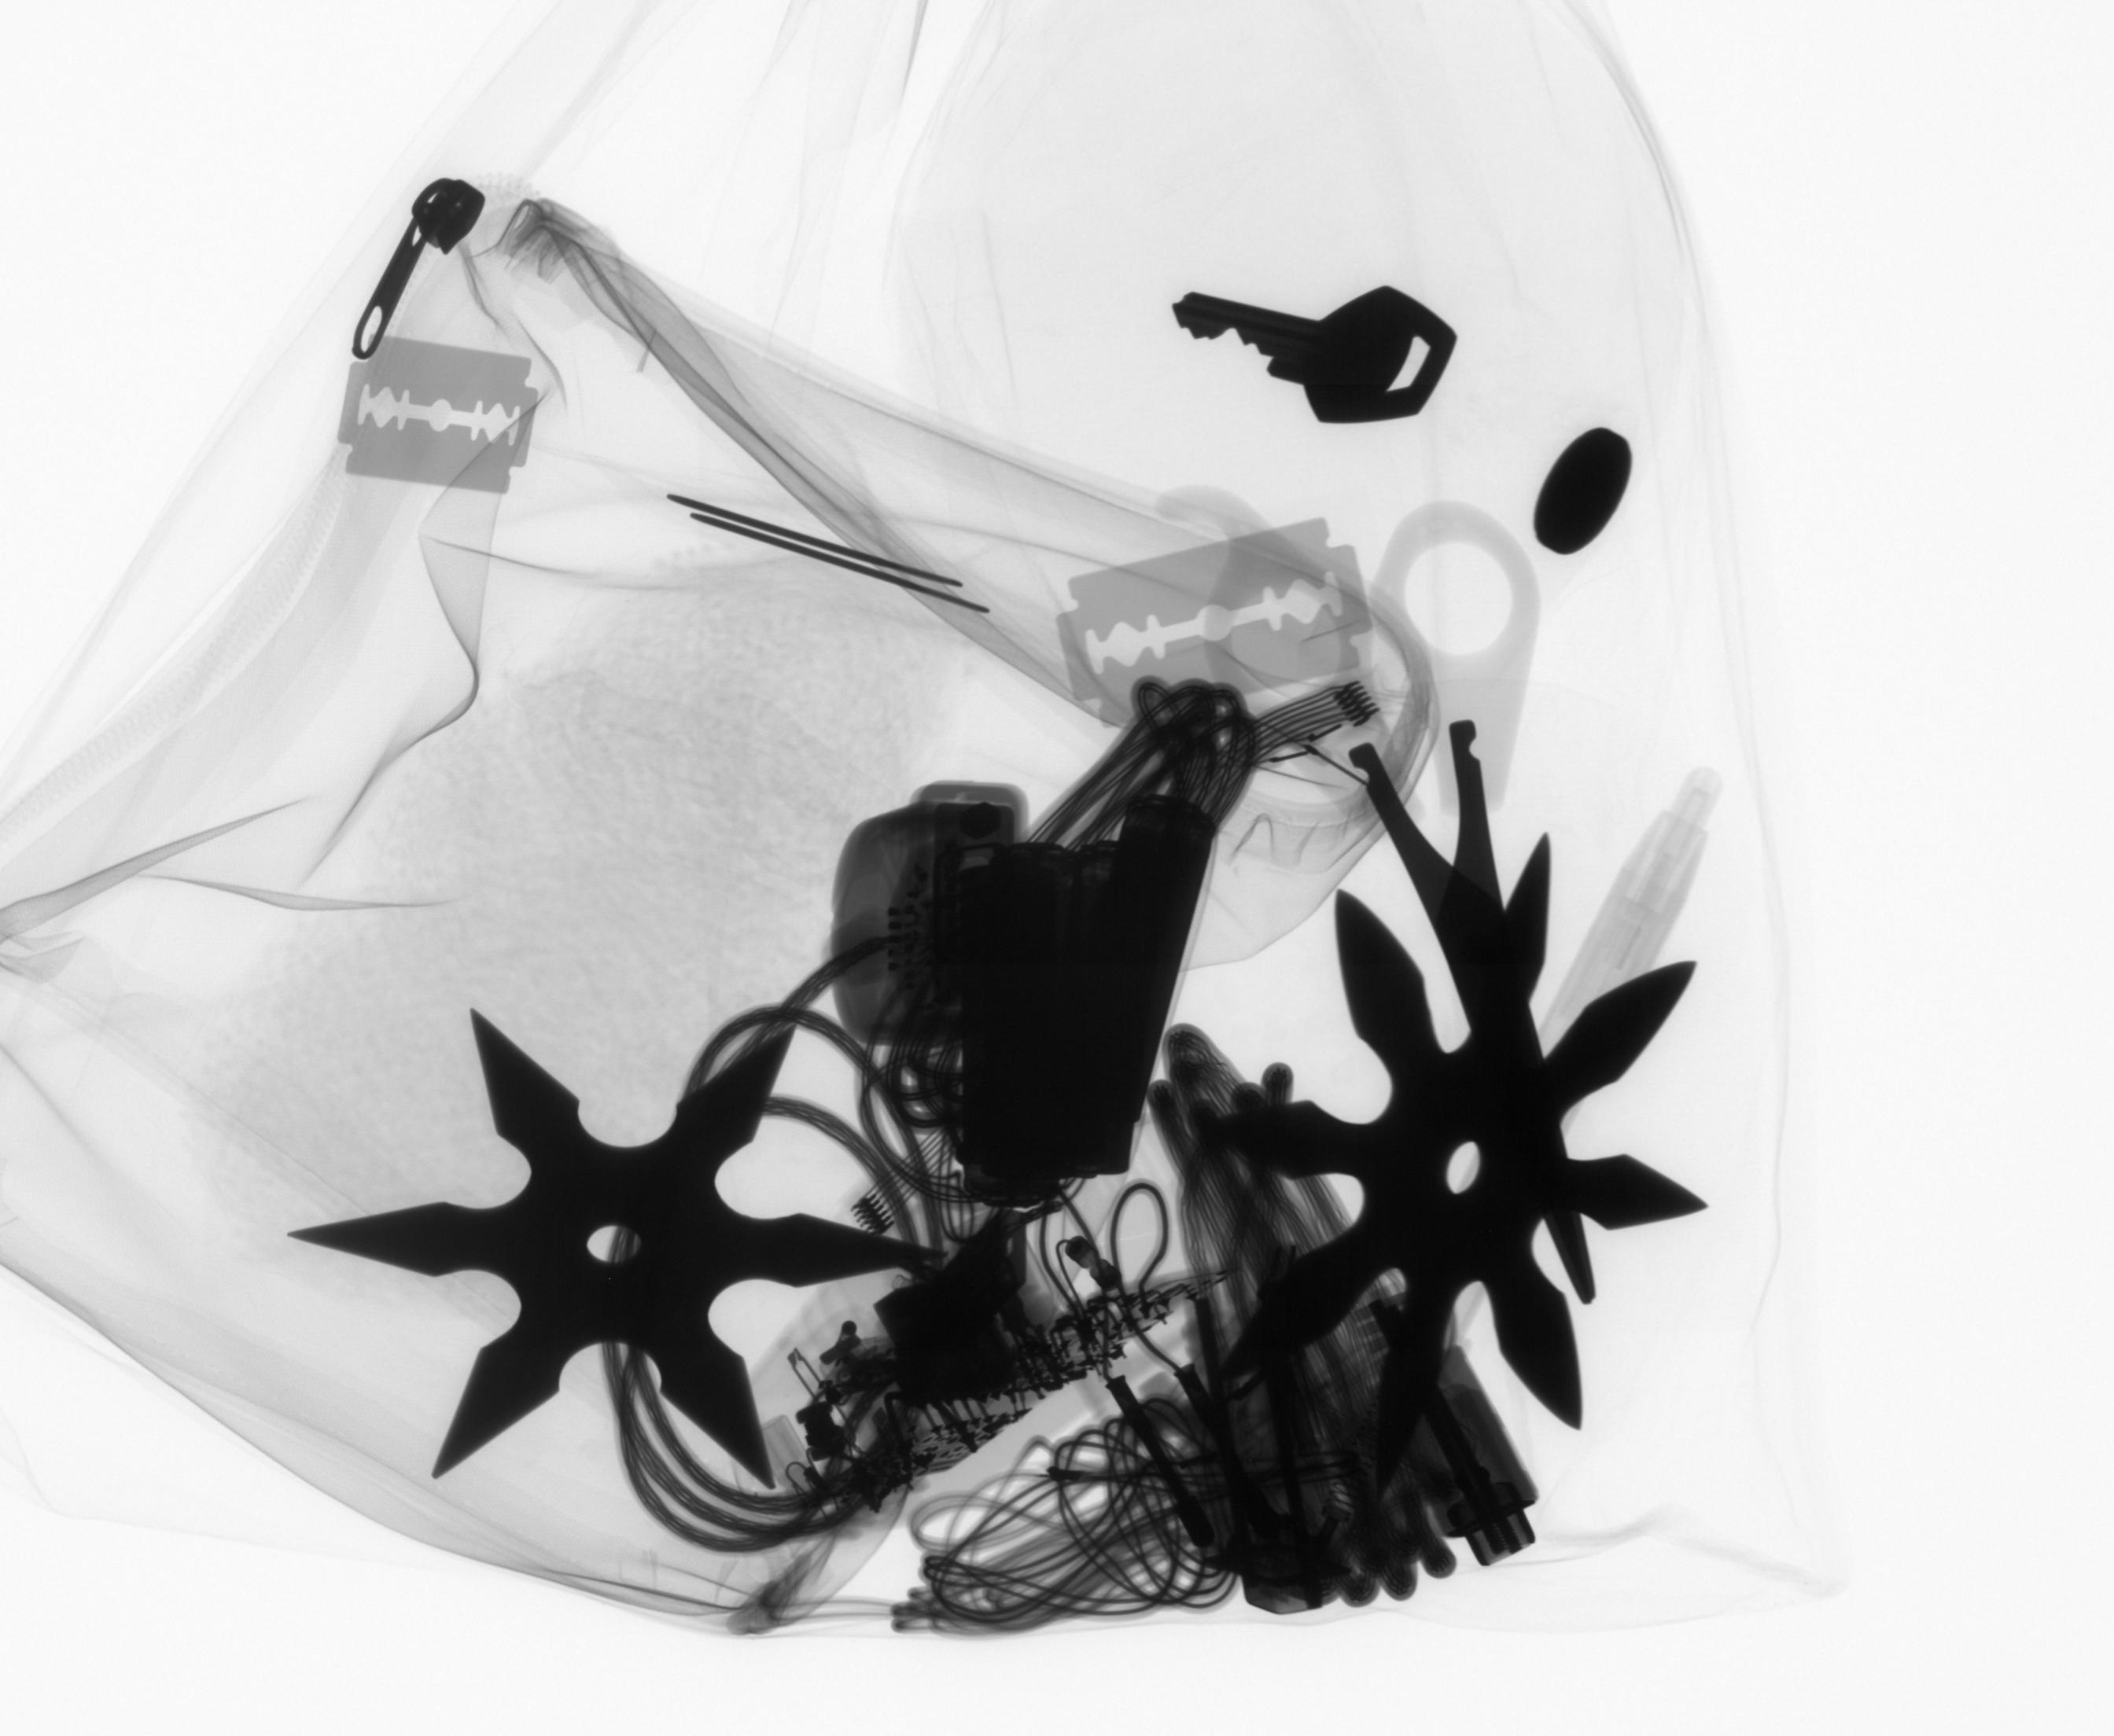RazorBlade: (1045, 507, 1382, 737), (330, 319, 543, 513)
Shuriken: (1180, 829, 1728, 1515), (277, 997, 960, 1496)
